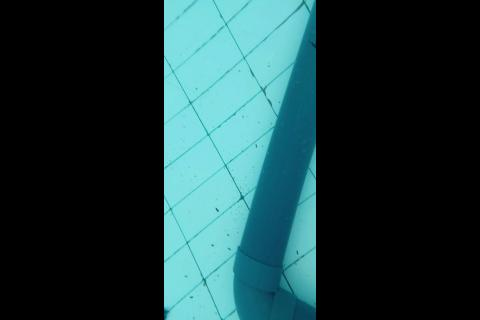keretakan: (306, 37, 317, 50)
